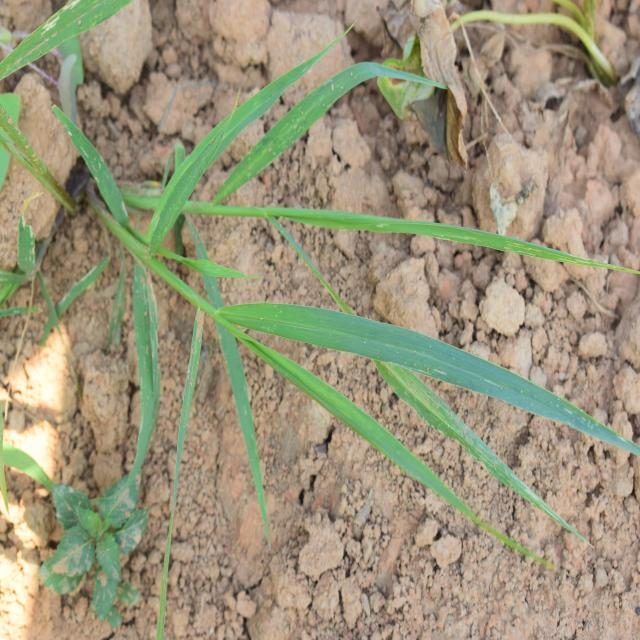green_foxtail: (116, 75, 565, 534)
